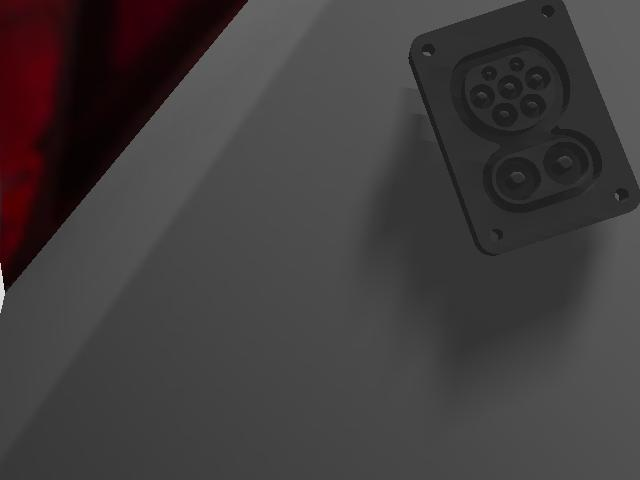EV-socket: (404, 0, 639, 264)
